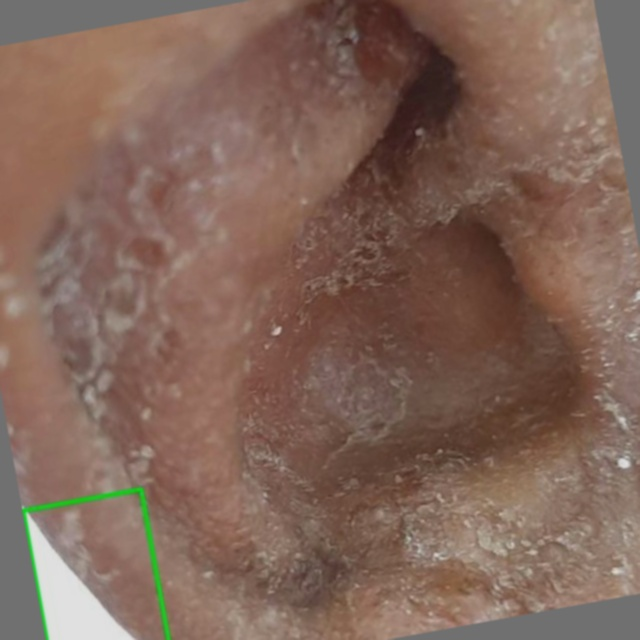Eczema: (23, 490, 168, 639)
